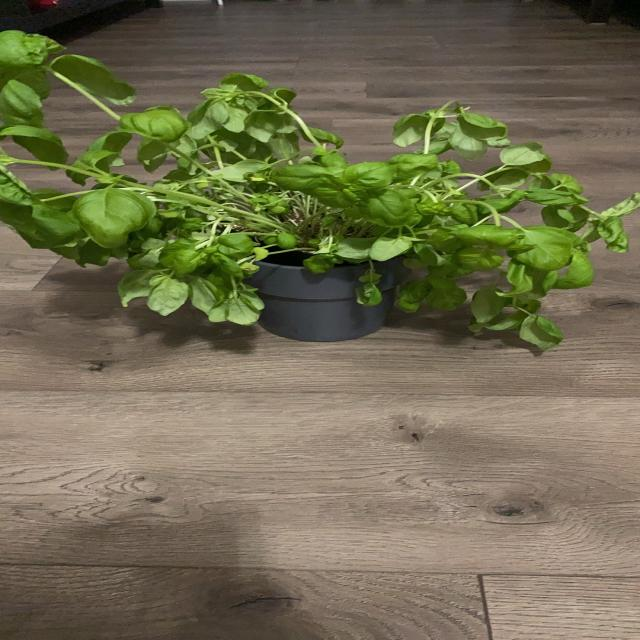healthy: (70, 187, 158, 244), (4, 126, 70, 170), (16, 208, 83, 248), (360, 191, 417, 227), (120, 112, 187, 142), (269, 165, 340, 192), (69, 151, 119, 184), (344, 162, 394, 188), (0, 170, 36, 204), (457, 228, 521, 247), (566, 255, 594, 290), (480, 192, 525, 212), (448, 203, 481, 227), (316, 192, 358, 210), (306, 256, 343, 274), (276, 234, 297, 248)
wilt: (121, 231, 279, 328), (378, 95, 550, 156), (527, 168, 640, 259), (468, 283, 585, 368), (192, 71, 314, 130), (344, 261, 462, 306), (51, 55, 138, 106), (0, 79, 45, 126)
yellow: (502, 148, 546, 165), (247, 176, 267, 183)
